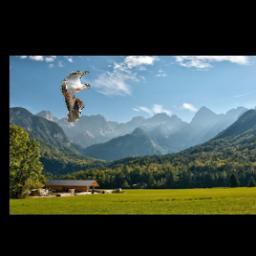Cuckoo: (61, 72, 91, 123)
